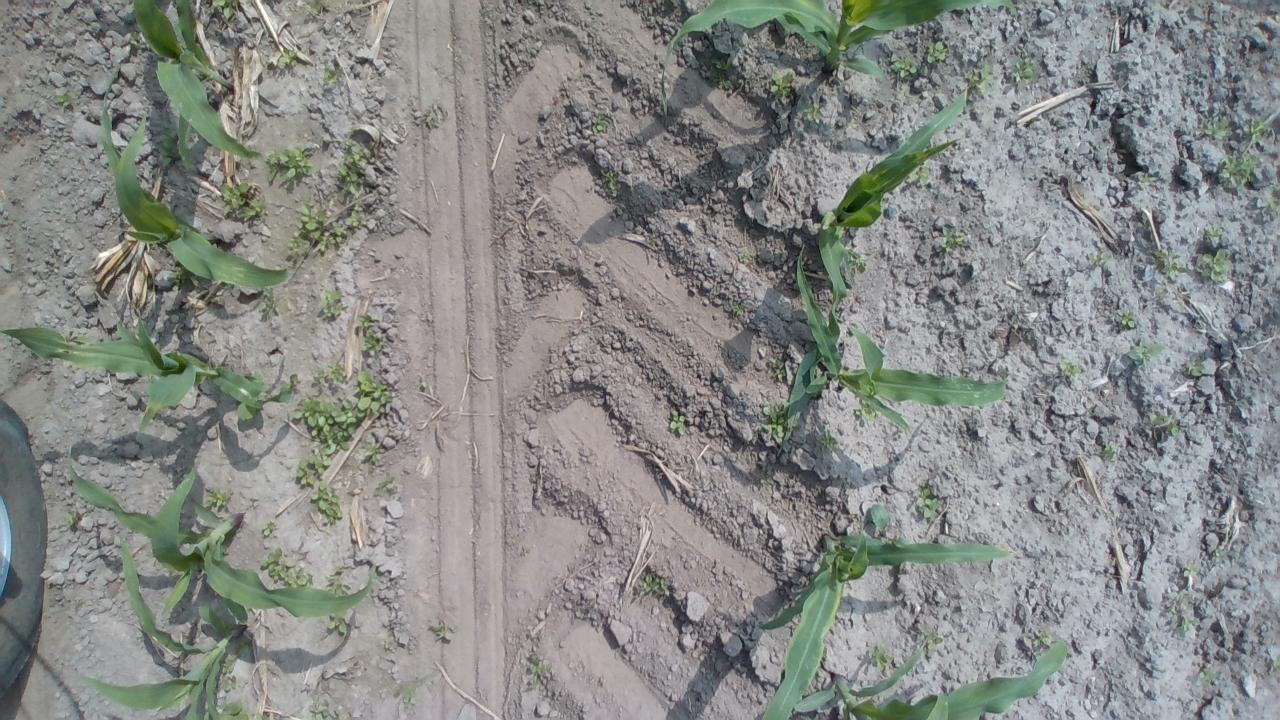Maize: (56, 452, 378, 634), (800, 80, 981, 382), (760, 516, 1024, 720), (98, 63, 292, 304), (769, 244, 1010, 436), (652, 0, 998, 114), (0, 312, 277, 453), (74, 531, 260, 720), (766, 624, 1080, 720), (124, 0, 277, 170)
Weeds: (285, 202, 365, 262), (288, 394, 359, 452), (332, 136, 381, 206), (230, 371, 292, 419), (258, 142, 321, 187), (256, 546, 314, 590), (216, 180, 270, 224), (1162, 588, 1203, 640), (1214, 151, 1264, 190), (956, 60, 996, 105), (286, 446, 332, 485), (354, 372, 392, 418), (930, 224, 976, 258), (854, 386, 889, 428), (310, 487, 346, 526), (1196, 250, 1236, 284), (352, 311, 384, 353), (1125, 342, 1169, 372), (411, 98, 452, 130), (763, 400, 797, 438), (523, 648, 551, 692), (708, 56, 742, 92), (912, 488, 944, 526), (310, 362, 349, 392), (304, 696, 351, 720), (316, 288, 349, 322), (156, 134, 184, 172), (1154, 248, 1184, 283), (863, 645, 893, 679), (1008, 52, 1038, 86), (322, 566, 352, 600), (1146, 408, 1181, 437), (769, 68, 796, 105), (635, 572, 667, 602), (202, 484, 236, 511), (1026, 630, 1056, 660), (430, 619, 463, 646), (257, 285, 282, 320), (1238, 116, 1268, 145), (396, 674, 424, 704), (1113, 303, 1141, 331), (359, 441, 388, 468), (724, 293, 754, 319), (890, 54, 920, 80), (274, 47, 304, 73), (906, 161, 934, 187), (924, 40, 950, 68), (220, 654, 238, 694), (215, 701, 252, 720), (600, 168, 624, 197), (1176, 561, 1202, 587), (1201, 224, 1227, 250), (323, 614, 351, 638), (667, 408, 690, 437), (1098, 437, 1122, 464), (212, 1, 240, 24), (1056, 360, 1086, 381), (809, 424, 833, 450), (1184, 352, 1206, 380), (1261, 183, 1280, 215), (800, 101, 824, 125), (322, 64, 345, 89), (588, 112, 610, 138), (1204, 119, 1228, 141), (844, 253, 870, 273), (258, 518, 280, 538), (64, 508, 84, 530), (925, 632, 946, 651), (1088, 249, 1110, 267), (1198, 666, 1220, 684), (54, 92, 72, 114), (772, 352, 784, 376), (1135, 173, 1153, 189), (1209, 545, 1223, 557), (1270, 657, 1280, 672)
